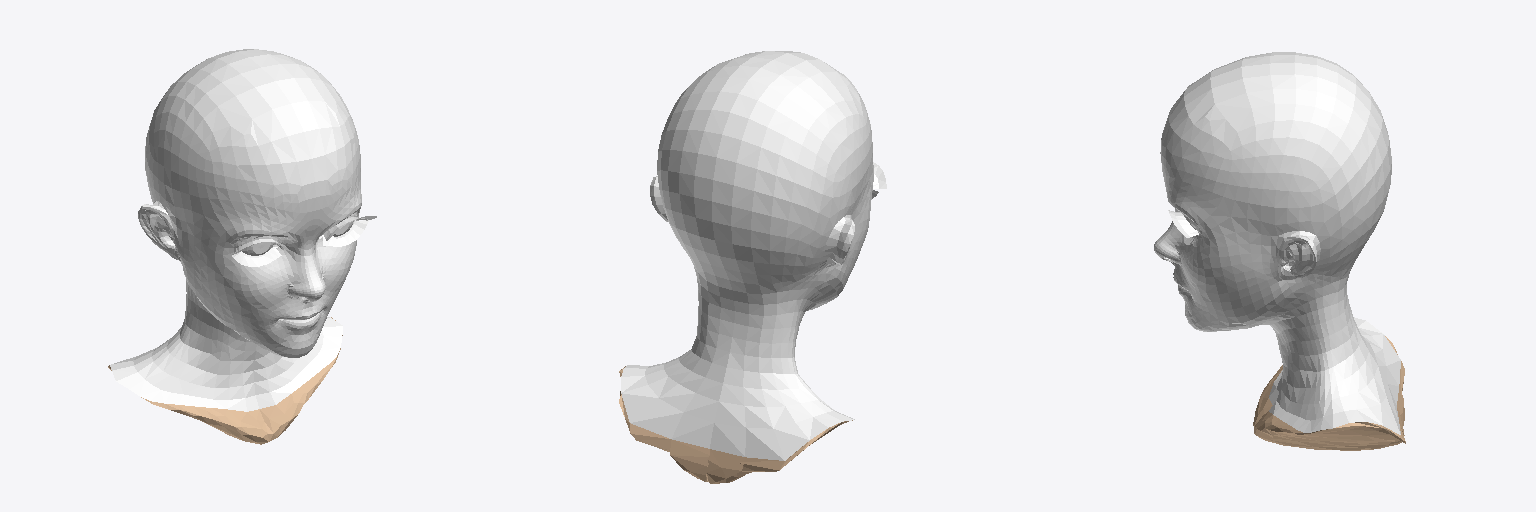
File: closed.obj
The picture shows the model from 3 angles: view 1: azimuth 30°, elevation 25°; view 2: azimuth 150°, elevation 25°; view 3: azimuth 270°, elevation 25°; orthographic projection.
Visible parts, largest first — view 1: Body, Eyelashes; view 2: Body; view 3: Body.
Boxes of the visible parts, x1,y1,x2,y2 form: Body: [110, 49, 361, 411]; Eyelashes: [232, 216, 376, 266]; Body: [621, 51, 873, 460]; Body: [1154, 52, 1400, 434].
Bounding box in the file's own units: 23 × 37.41 × 22.1.